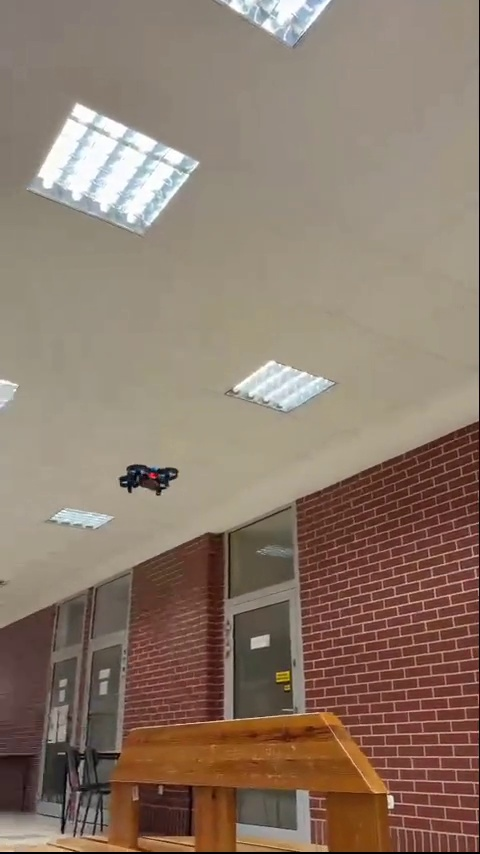drone: (117, 461, 178, 501)
